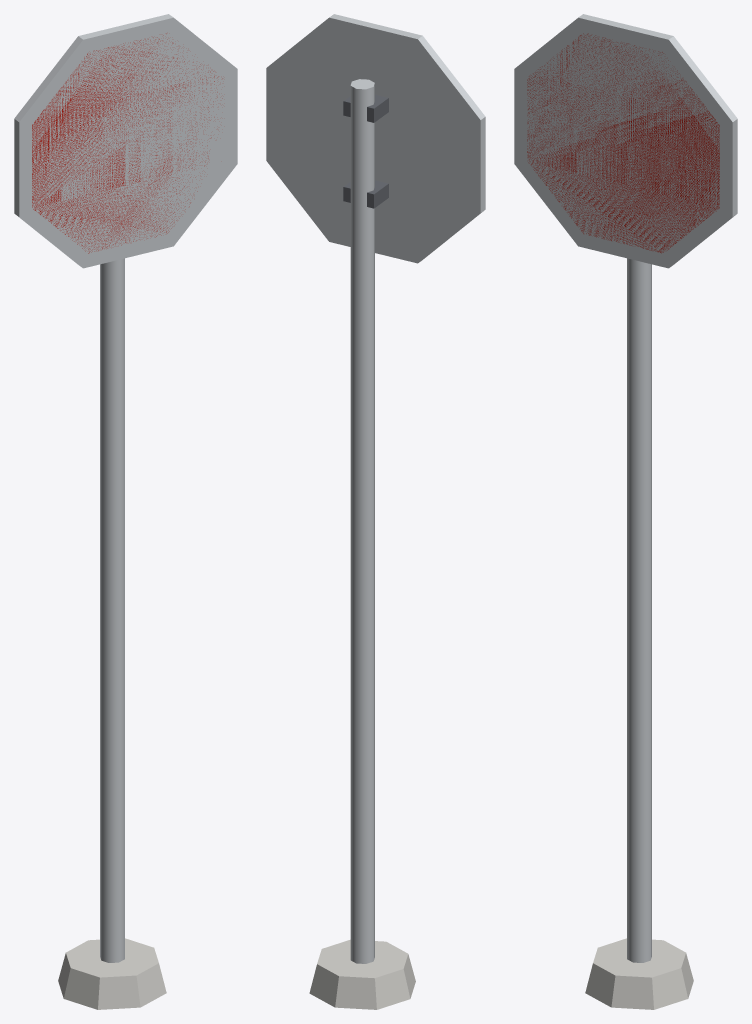
File: SM_RoadSign_Stop.fbx
The picture shows the model from 3 angles, left to right: view 1: azimuth 30°, elevation 25°; view 2: azimuth 150°, elevation 25°; view 3: azimuth 330°, elevation 25°; orthographic projection.
Parts seen in each view (by area): view 1: SM_RoadSign_Stop; view 2: SM_RoadSign_Stop; view 3: SM_RoadSign_Stop.
Part boxes in pixels (x1,y1,x2,y2): SM_RoadSign_Stop: [14, 14, 237, 1009]; SM_RoadSign_Stop: [266, 14, 485, 1009]; SM_RoadSign_Stop: [514, 14, 737, 1009].
Size of the model in its own units: 62.82 by 266 by 28.
